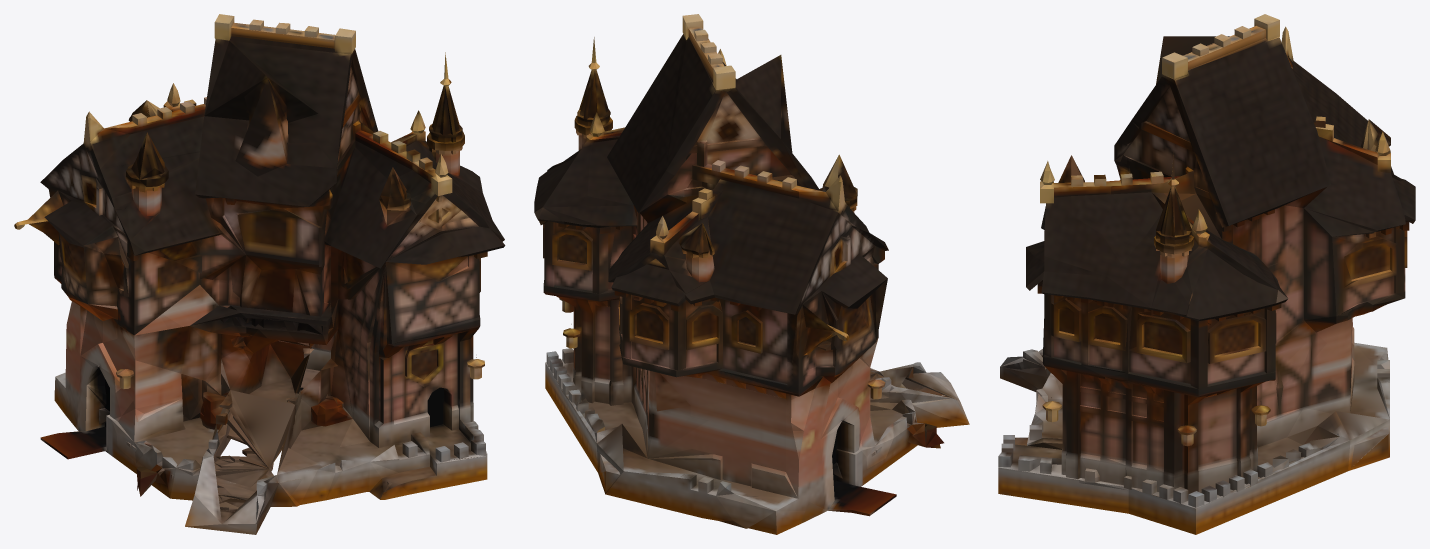
Rendered from thieves_guild.fbx.
3 renders of one model, left to right at view 1: azimuth 30°, elevation 25°; view 2: azimuth 150°, elevation 25°; view 3: azimuth 270°, elevation 25°, orthographic. The views are drawn at different scales.
Visible parts, largest first — view 1: texture_pbr_v128; view 2: texture_pbr_v128; view 3: texture_pbr_v128.
Boxes of the visible parts, x1=… form: texture_pbr_v128: x1=14, y1=14, x2=505, y2=534; texture_pbr_v128: x1=534, y1=14, x2=969, y2=534; texture_pbr_v128: x1=998, y1=14, x2=1415, y2=534.
Bounding box in the file's own units: 190 × 187 × 174.
1 material, 1 textured.
